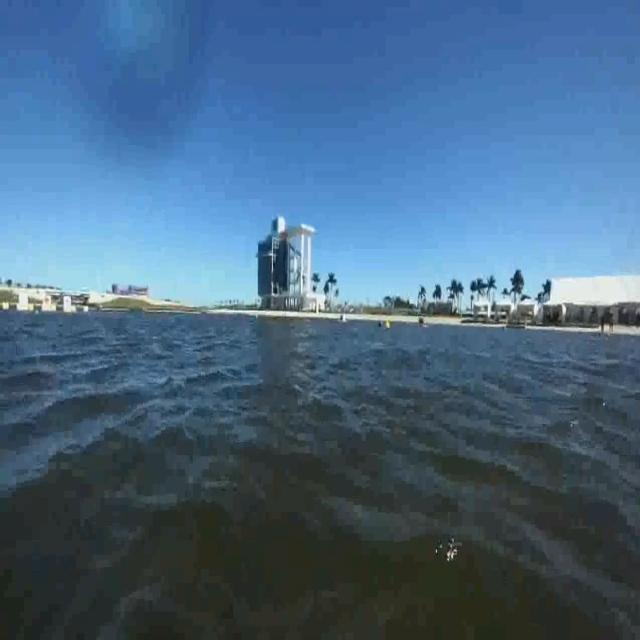yellow-buoy: (385, 319, 392, 330)
